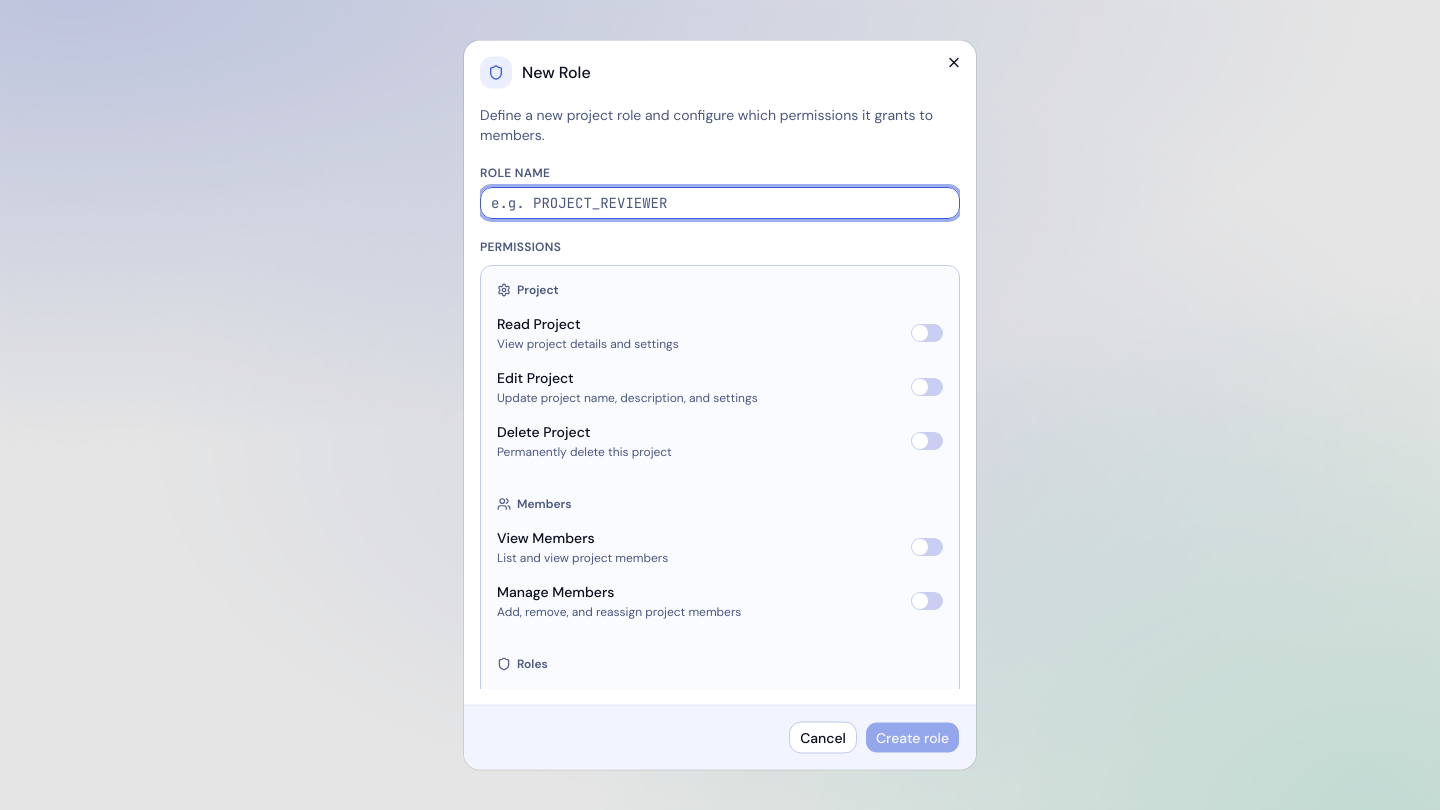
Test: ProjectRoleFormDialog › error handling › shows an inline field error when role name is invalid
The width and height of the screenshot is (1440, 810).
Step 1. Type "bad-name!!" into the field labelled "Role Name" → (720, 202), box [480,186,960,218]
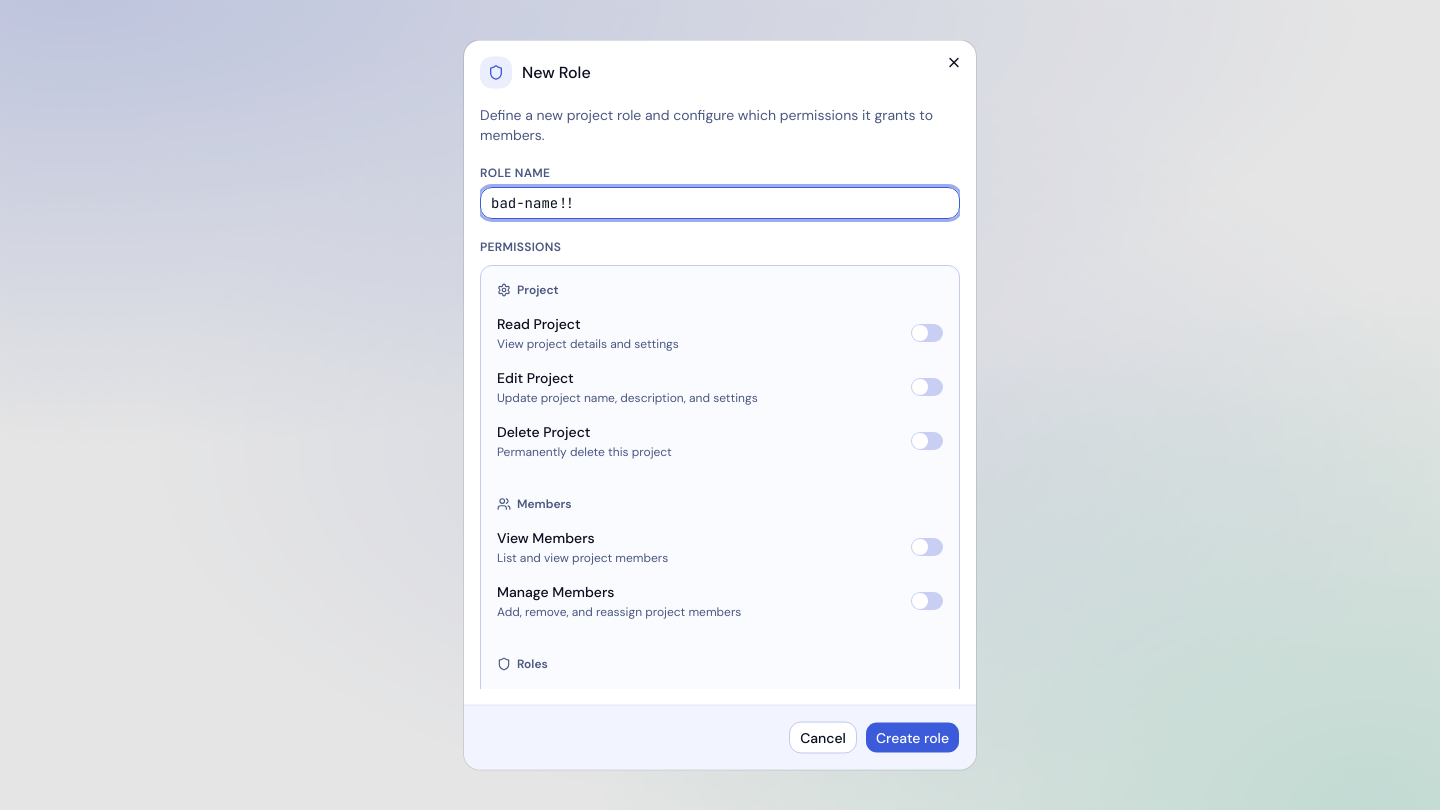
Step 2. Click the button "Create role" → (912, 738), box [865,722,960,754]
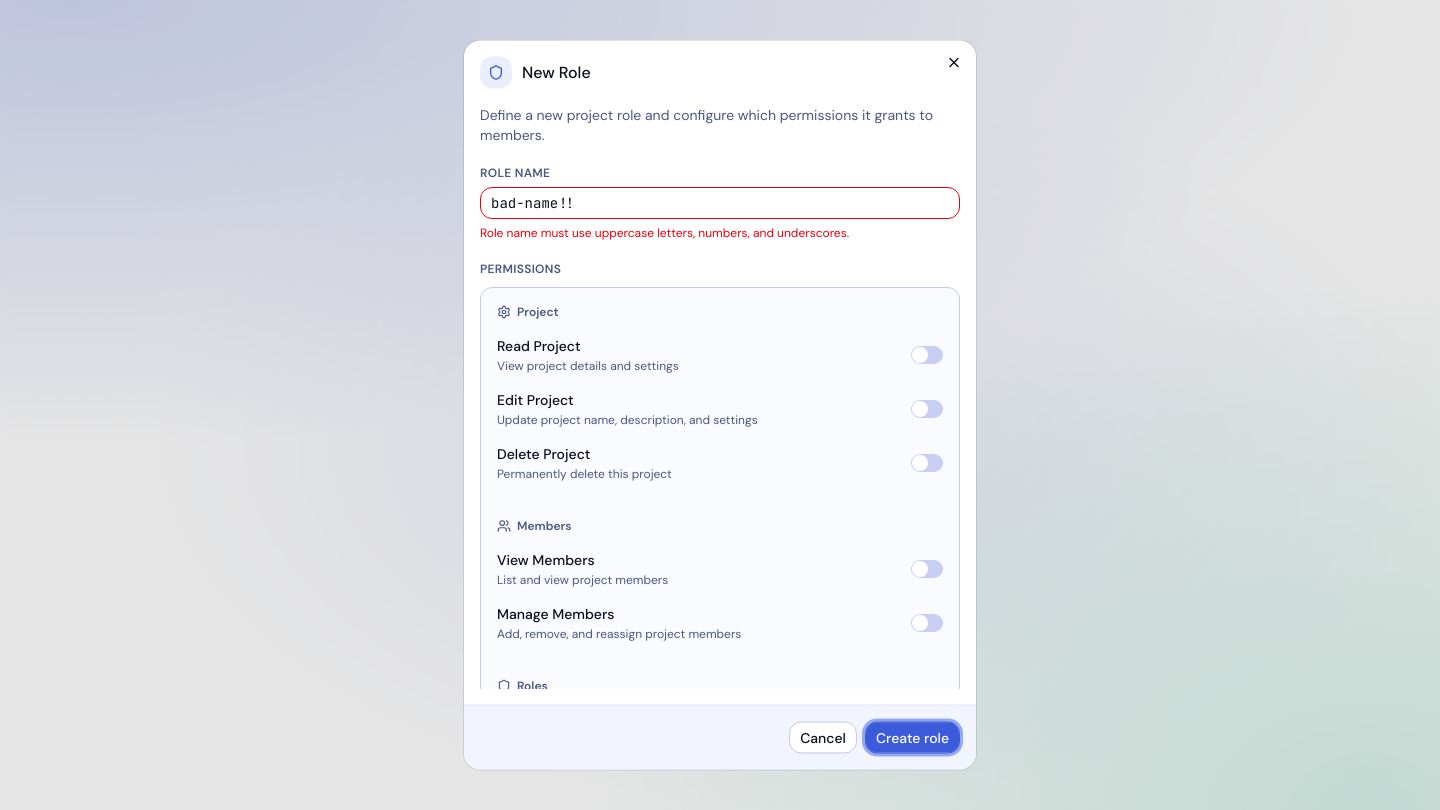
Check: the text "uppercase letters, numbers, and underscores" is shown, box [480,224,849,240]
